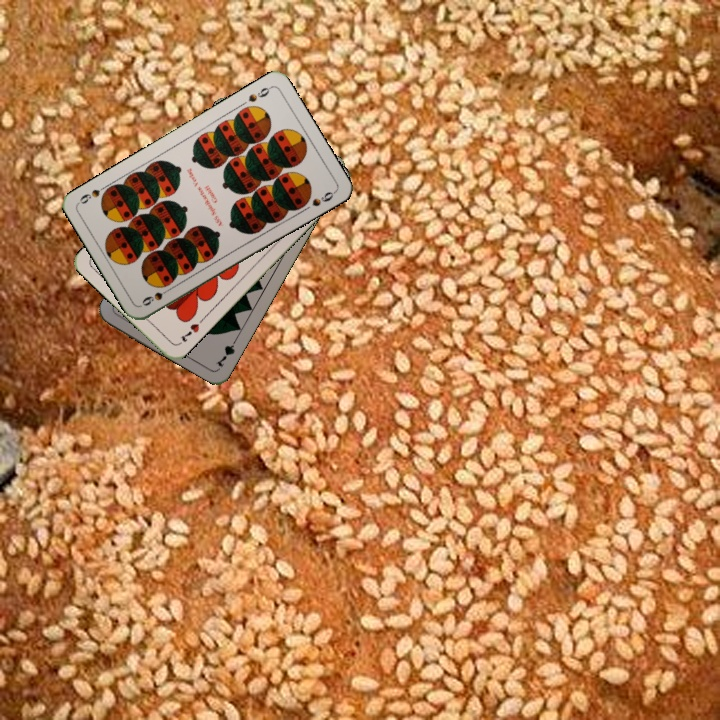G7: (212, 333, 240, 370)
H7: (176, 319, 202, 344)
S9: (138, 283, 175, 309), (244, 82, 274, 105)
